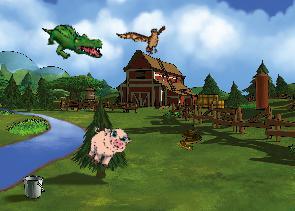crocodile: (42, 22, 103, 61)
eagle: (116, 12, 174, 65)
pig: (81, 119, 133, 173)
